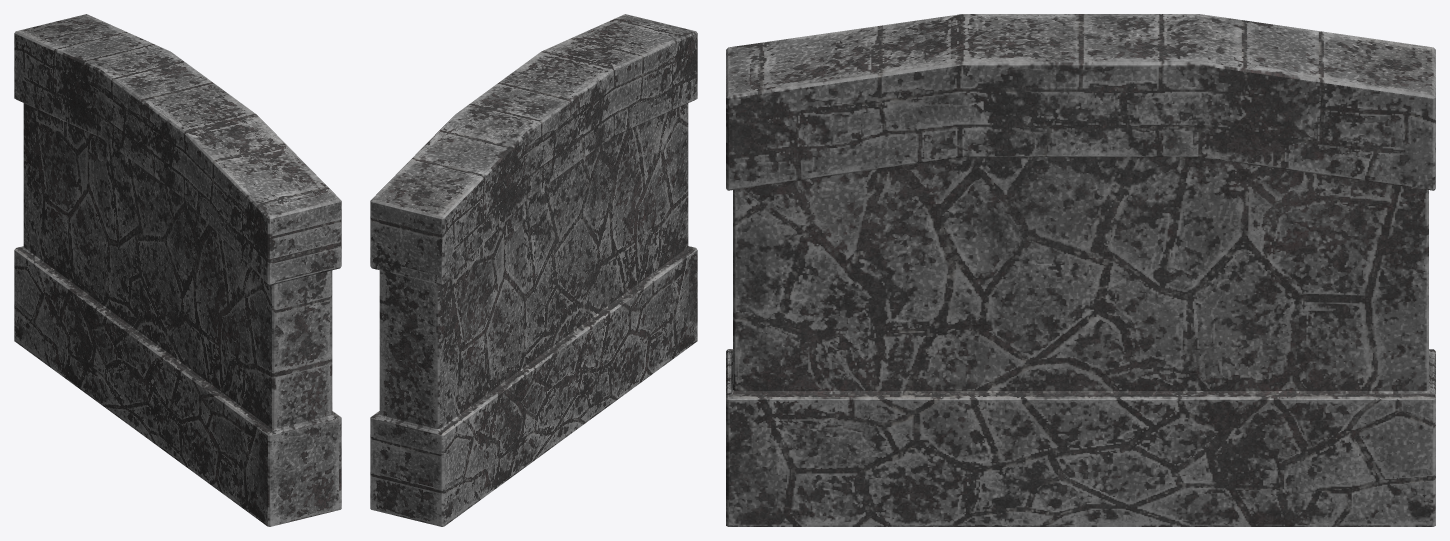
File: fence.fbx
The picture shows the model from 3 angles, left to right: view 1: azimuth 30°, elevation 25°; view 2: azimuth 150°, elevation 25°; view 3: azimuth 270°, elevation 25°; orthographic projection. The views are drawn at different scales.
Parts seen in each view (by area): view 1: fence; view 2: fence; view 3: fence.
Boxes of the visible parts, x1,y1,x2,y2 form: fence: (14,14,341,526); fence: (370,14,697,526); fence: (726,14,1435,526).
Size of the model in its own units: 49.09 by 212 by 294.
